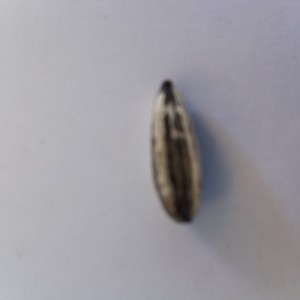girasol: (144, 76, 210, 232)
